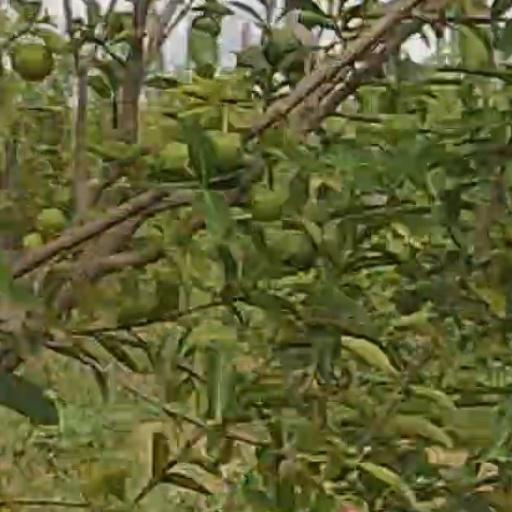acerola_verde: (15, 45, 53, 78), (251, 191, 279, 217)
